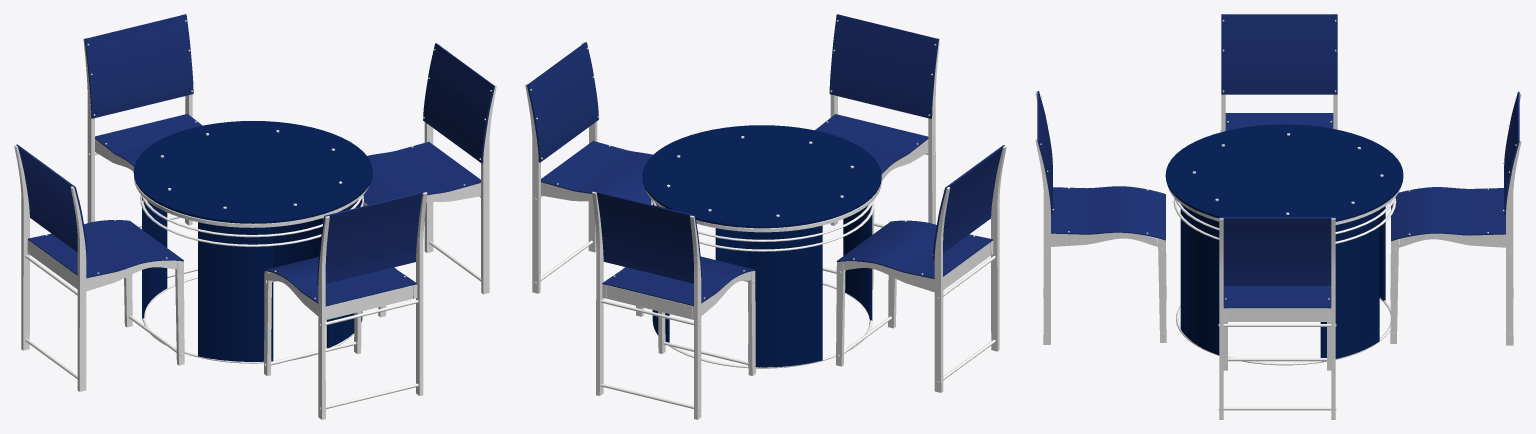
File: Table.obj
3 views of the same model, side by side, from view 1: azimuth 30°, elevation 25°; view 2: azimuth 150°, elevation 25°; view 3: azimuth 270°, elevation 25° (orthographic).
Parts seen in each view (by area): view 1: Object.113, Object.109, Object.79, Object.55, Object.31, Object.25, Object.3, Object.7, Object.49, Object.73, Object.10, Object.99 (+20 smaller); view 2: Object.113, Object.97, Object.55, Object.79, Object.31, Object.3, Object.25, Object.7, Object.73, Object.49, Object.109, Object.1 (+19 smaller); view 3: Object.113, Object.7, Object.31, Object.99, Object.49, Object.73, Object.108, Object.25, Object.3, Object.74, Object.58, Object.32 (+10 smaller).
Part boxes in pixels (<box>): Object.113: <box>133,121,372,223</box>; Object.109: <box>198,222,273,361</box>; Object.79: <box>84,14,193,118</box>; Object.55: <box>317,191,425,285</box>; Object.31: <box>423,43,494,163</box>; Object.25: <box>363,141,480,204</box>; Object.3: <box>28,220,183,278</box>; Object.7: <box>16,144,87,258</box>; Object.49: <box>264,257,416,306</box>; Object.73: <box>95,114,202,166</box>; Object.10: <box>70,186,86,391</box>; Object.99: <box>273,218,323,267</box>; Object.113: <box>642,125,881,228</box>; Object.97: <box>748,225,822,367</box>; Object.55: <box>829,14,938,118</box>; Object.79: <box>593,190,702,285</box>; Object.31: <box>527,42,598,162</box>; Object.3: <box>836,220,992,278</box>; Object.25: <box>541,141,652,204</box>; Object.7: <box>933,145,1004,259</box>; Object.73: <box>602,256,755,306</box>; Object.49: <box>815,114,928,173</box>; Object.109: <box>843,206,872,320</box>; Object.1: <box>934,187,950,392</box>; Object.113: <box>1165,124,1403,221</box>; Object.7: <box>1221,14,1337,94</box>; Object.31: <box>1219,217,1335,285</box>; Object.99: <box>1320,210,1379,361</box>; Object.49: <box>1051,186,1165,240</box>; Object.73: <box>1391,187,1505,241</box>; Object.108: <box>1180,204,1219,355</box>; Object.25: <box>1223,286,1331,308</box>; Object.3: <box>1225,113,1333,130</box>; Object.74: <box>1506,139,1521,345</box>; Object.58: <box>1035,139,1050,344</box>; Object.32: <box>1228,308,1326,321</box>.
Bounding box in the file's own units: 402539 × 187143 × 402539.
